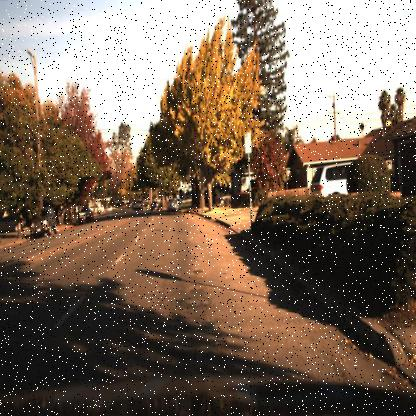car: (308, 156, 376, 200), (29, 204, 58, 240), (29, 205, 60, 238), (215, 187, 236, 208), (78, 203, 92, 224), (166, 199, 180, 215), (179, 195, 196, 207), (166, 198, 178, 212), (134, 197, 144, 213)
